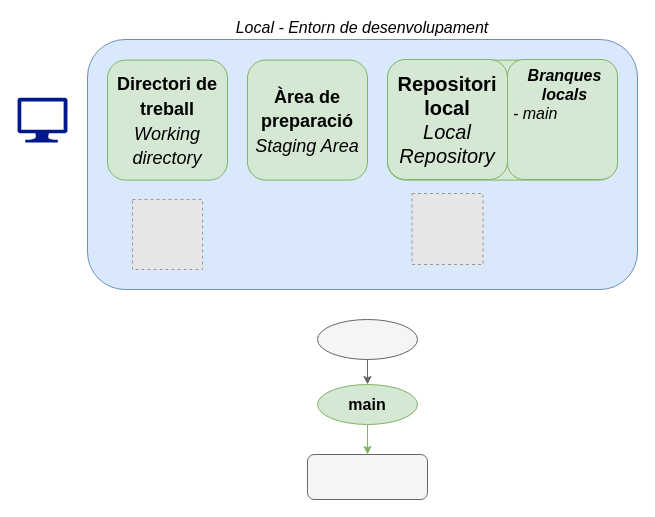
The diagram is 655 pixels wide and 517 high, and some of its shapes have lost their labels. Grey dashed boxes stand in for pictures. The centre of each missing label's shape, as x and y in pixels:
"HEAD" belongs at (367,339).
"Títol 0b1b3b4" belongs at (367,477).
